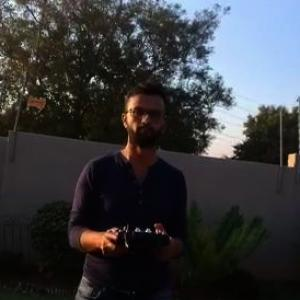follow: (68, 75, 201, 299)
